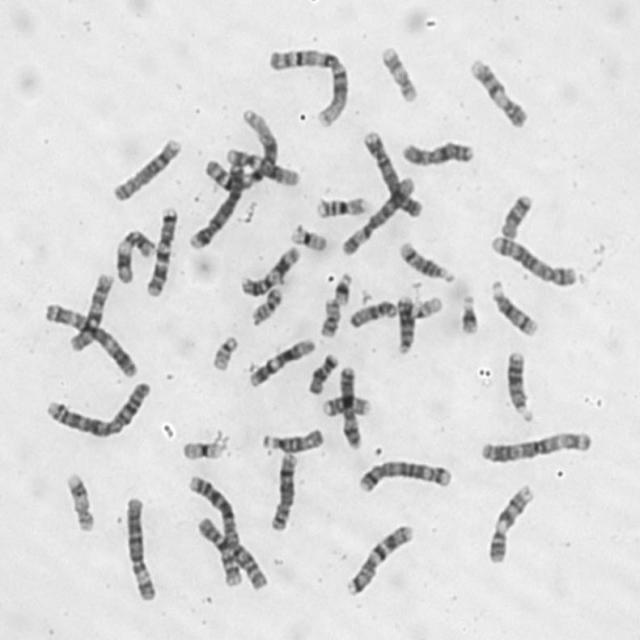A1: (266, 44, 352, 130), (201, 105, 279, 194)
A2: (185, 471, 244, 588), (41, 378, 152, 440)
A3: (42, 300, 138, 378), (477, 426, 593, 466)
B4: (185, 154, 248, 252), (361, 126, 424, 220)
B5: (489, 231, 579, 288), (356, 457, 453, 493)
C10: (196, 516, 269, 592), (66, 268, 116, 353)
C11: (237, 243, 302, 297), (112, 226, 156, 285)
C12: (246, 334, 316, 390), (223, 145, 300, 187)
C6: (337, 172, 416, 257), (122, 493, 158, 602)
C7: (342, 521, 415, 597), (143, 204, 180, 298)
C8: (109, 134, 184, 204), (266, 449, 300, 532)
C9: (467, 54, 530, 132), (486, 479, 536, 565)
D13: (504, 347, 535, 424), (395, 293, 415, 355)
D14: (488, 276, 540, 338), (395, 238, 456, 284)
D15: (258, 424, 325, 455), (346, 296, 398, 330)
E16: (312, 191, 370, 220), (320, 391, 372, 419)
E17: (379, 42, 420, 105), (63, 469, 96, 535)
E18: (497, 190, 535, 241), (305, 351, 339, 396)
F19: (288, 220, 329, 252), (178, 436, 227, 462)
F20: (248, 283, 284, 327), (316, 295, 343, 339)
G21: (457, 290, 480, 335), (332, 270, 354, 306)
G22: (207, 332, 240, 372), (409, 293, 445, 319)
X: (399, 137, 476, 168), (338, 362, 363, 450)
